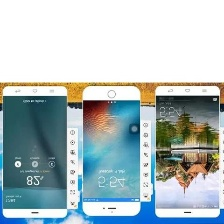phone: (152, 83, 223, 219), (0, 84, 70, 220), (78, 83, 142, 219)
